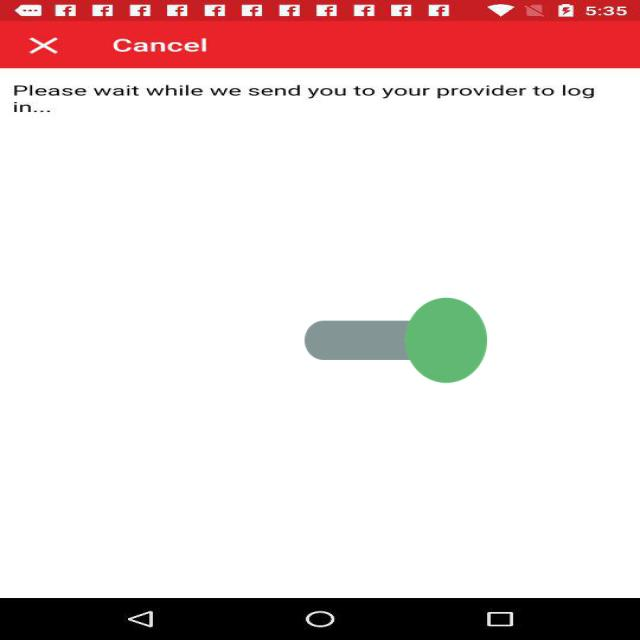social proof: (305, 245, 487, 436)
